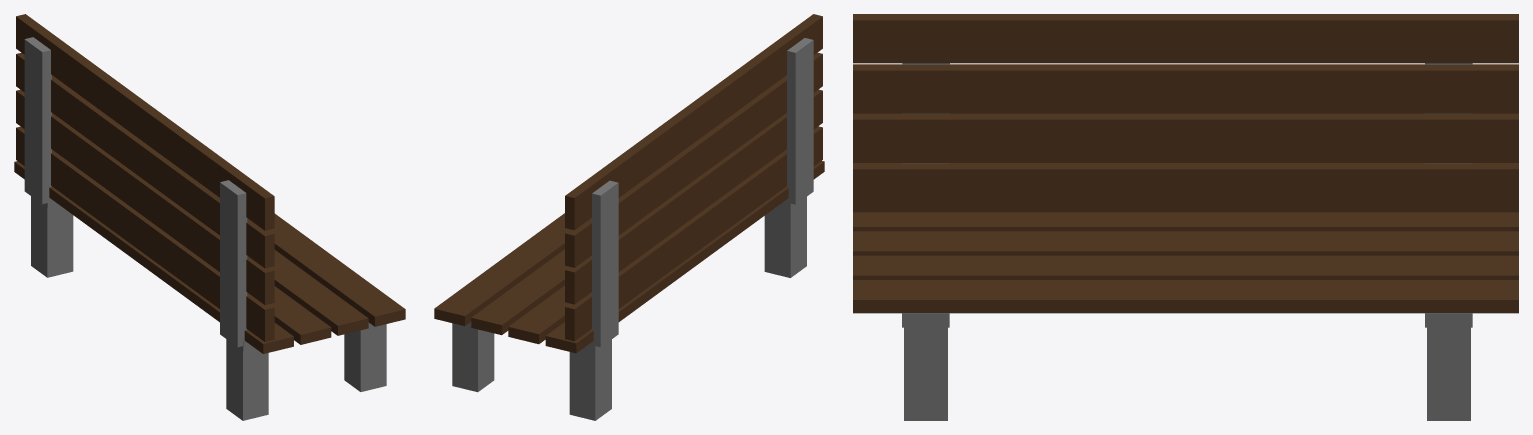
Rendered from bench.glb.
3 views of the same model, side by side, from view 1: azimuth 30°, elevation 25°; view 2: azimuth 150°, elevation 25°; view 3: azimuth 270°, elevation 25° (orthographic). The views are drawn at different scales.
Parts seen in each view (by area): view 1: Cube.010, Cube.009, Cube.007, Cube.008, Cube.002, Cube.011, Cube.012, Cube.006, Cube.001, Cube.019, Cube.017, Cube.014 (+1 smaller); view 2: Cube.010, Cube.009, Cube.007, Cube.008, Cube.002, Cube.012, Cube.011, Cube.006, Cube.001, Cube.017, Cube.019, Cube.016 (+1 smaller); view 3: Cube.007, Cube.010, Cube.009, Cube.008, Cube.002, Cube, Cube.001, Cube.006, Cube.014, Cube.016, Cube.003, Cube.004.
Boxes of the visible parts, x1,y1,x2,y2 form: Cube.010: (16, 14, 274, 230); Cube.009: (16, 52, 274, 268); Cube.007: (16, 126, 274, 341); Cube.008: (16, 89, 274, 304); Cube.002: (269, 213, 405, 326); Cube.011: (24, 37, 51, 204); Cube.012: (220, 180, 247, 347); Cube.006: (14, 161, 293, 353); Cube.001: (270, 250, 368, 335); Cube.019: (226, 339, 268, 420); Cube.017: (31, 196, 73, 277); Cube.014: (344, 322, 386, 391); Cube.010: (565, 14, 822, 230); Cube.009: (565, 52, 822, 267); Cube.007: (565, 126, 822, 341); Cube.008: (565, 89, 822, 304); Cube.002: (434, 213, 569, 326); Cube.012: (786, 38, 813, 204); Cube.011: (591, 180, 618, 347); Cube.006: (545, 161, 824, 353); Cube.001: (471, 249, 569, 335); Cube.017: (569, 339, 611, 420); Cube.019: (764, 197, 806, 277); Cube.016: (452, 322, 494, 392); Cube.007: (853, 163, 1518, 212); Cube.010: (853, 14, 1518, 63); Cube.009: (853, 64, 1518, 113); Cube.008: (853, 113, 1518, 162); Cube.002: (853, 280, 1518, 313); Cube: (853, 231, 1518, 255); Cube.001: (853, 255, 1518, 279); Cube.006: (853, 212, 1518, 231); Cube.014: (904, 327, 947, 420); Cube.016: (1427, 327, 1470, 420); Cube.003: (1425, 313, 1472, 327); Cube.004: (902, 313, 949, 327).
Size of the model in its own units: 2.15 by 3.21 by 6.15.
